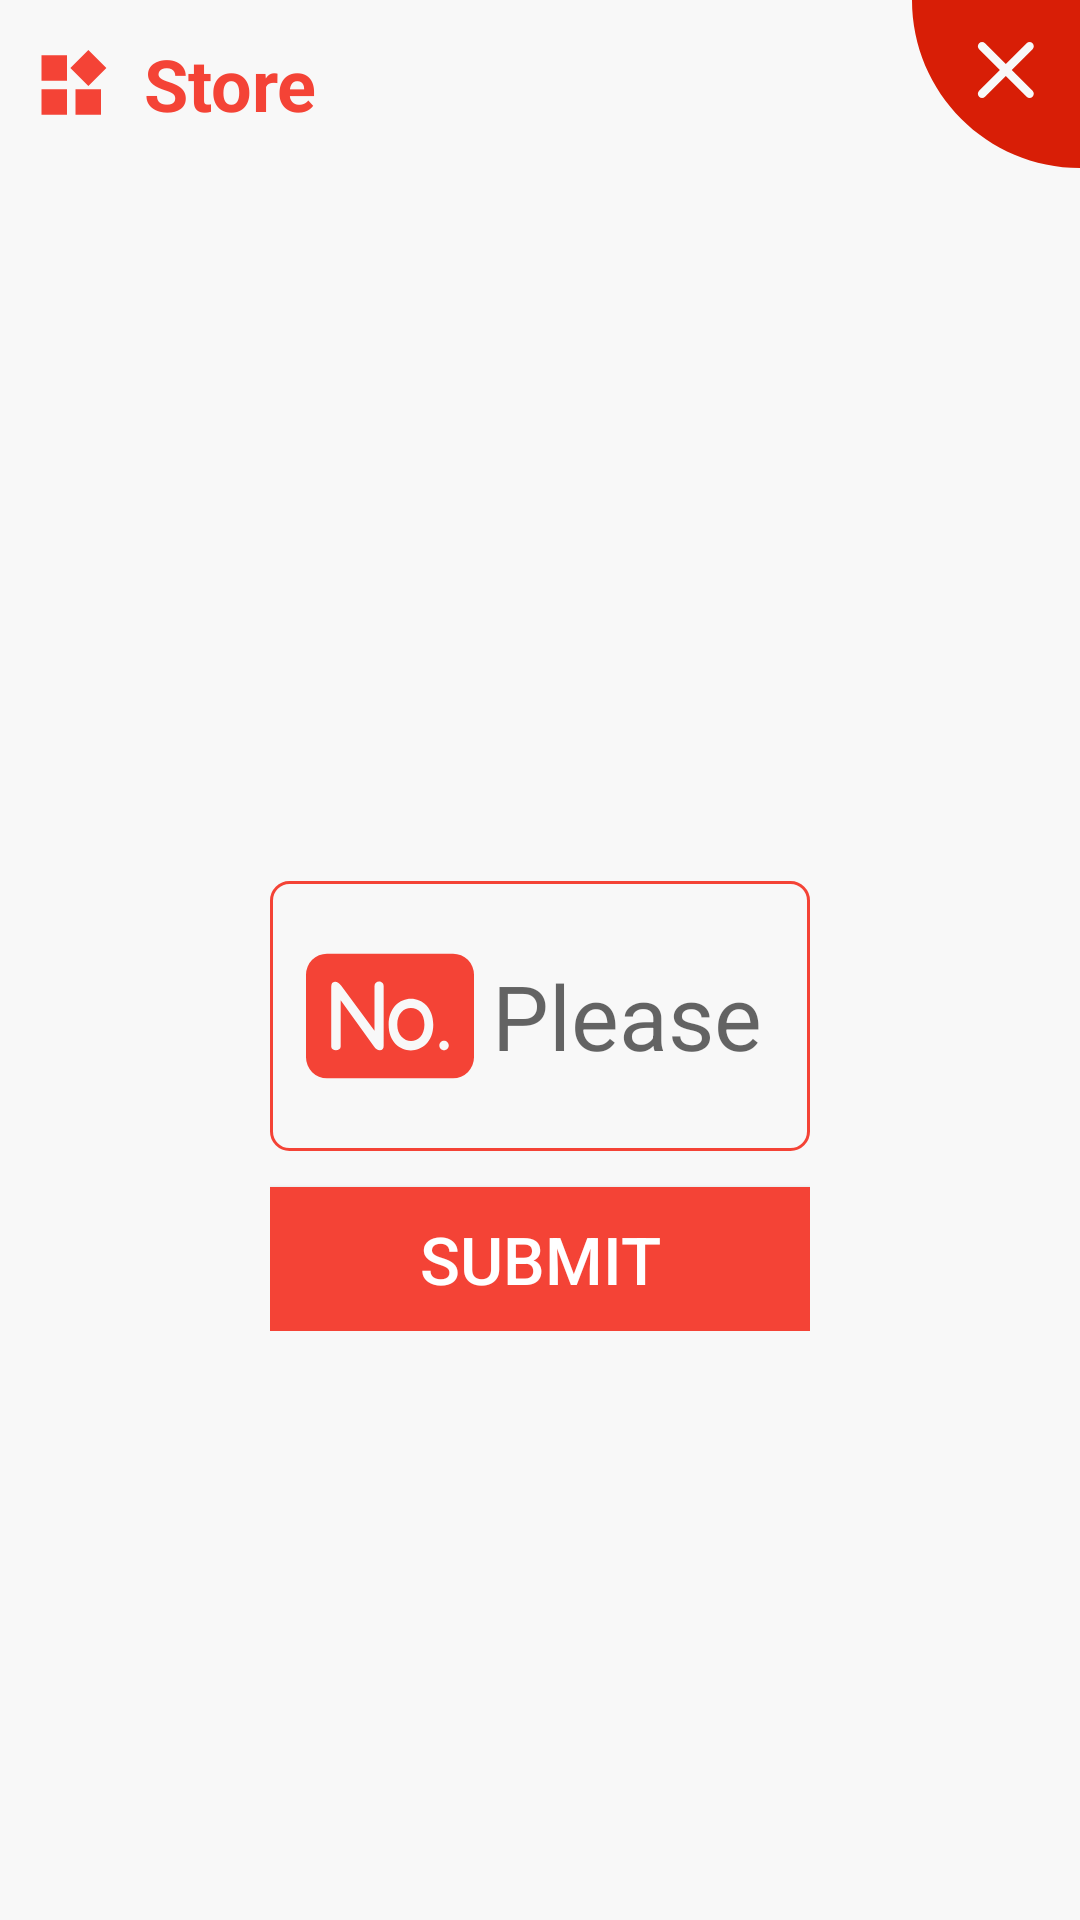

Icons on this 1080×1920 Android screen, each with the point to tap as (x=x, y=y):
close: (x=996, y=84)
